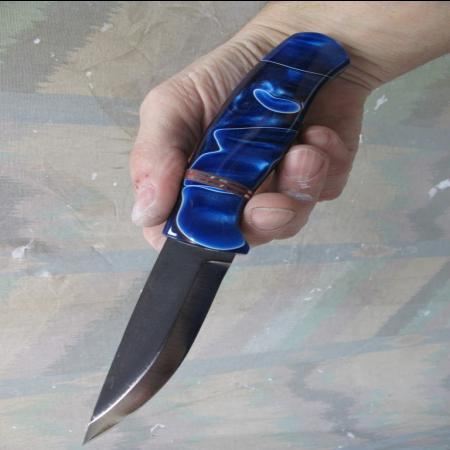long weapon: (76, 140, 335, 448)
